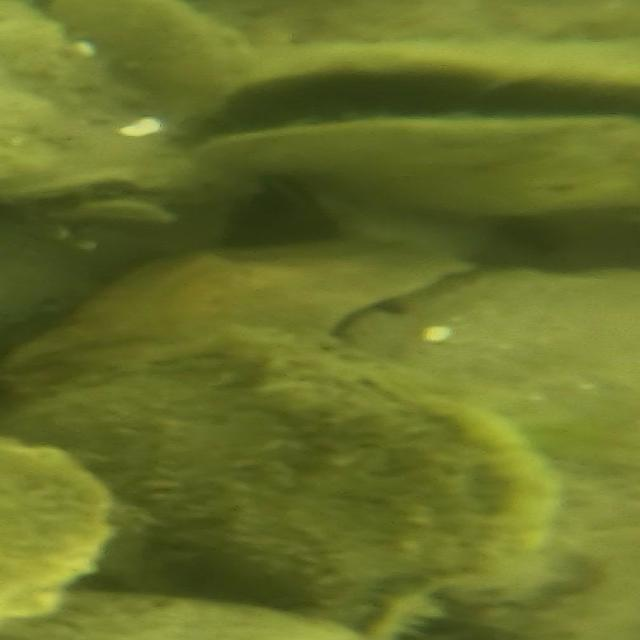Oyster-Closed: (281, 189, 500, 263), (13, 174, 199, 222)
Oyster-Indeterminate: (0, 329, 557, 640), (340, 266, 640, 640), (0, 3, 237, 352), (4, 240, 464, 369), (40, 0, 261, 134), (0, 437, 104, 625), (0, 591, 374, 640)
Oyster-Open: (196, 40, 640, 217)
